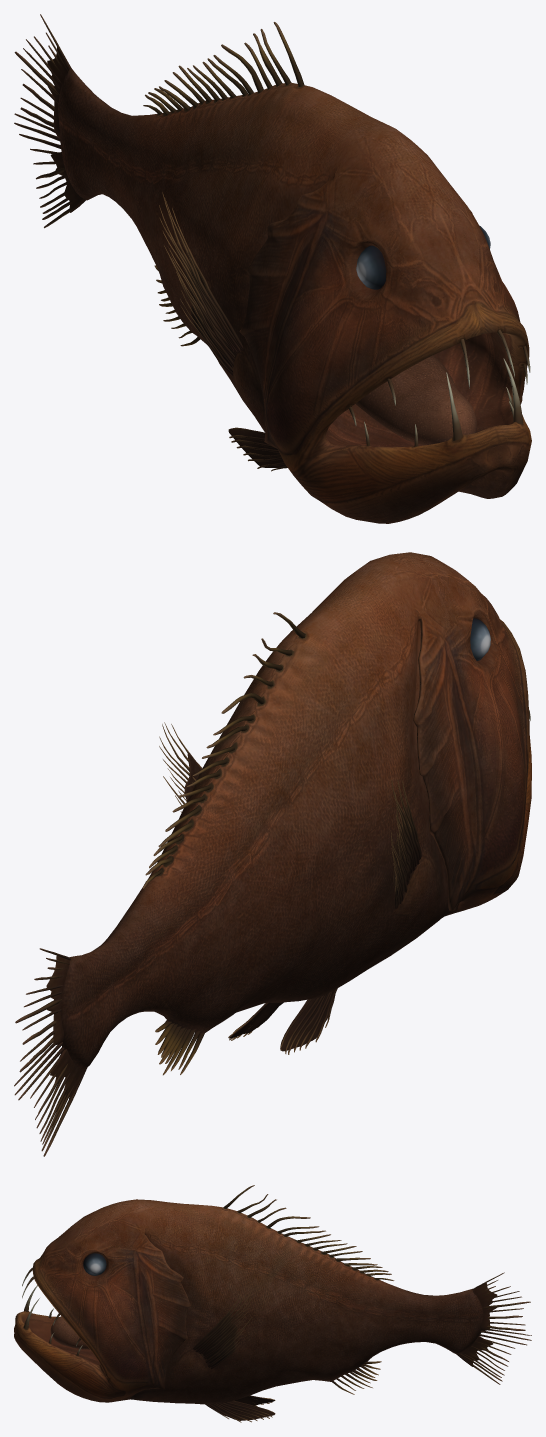
Rendered from peixe.glb.
3 renders of one model, top to bottom at view 1: azimuth 30°, elevation 25°; view 2: azimuth 150°, elevation 25°; view 3: azimuth 270°, elevation 25°, orthographic. The views are drawn at different scales.
Visible parts, largest first — view 1: node_id49; view 2: node_id49; view 3: node_id49.
Boxes of the visible parts, box(x1,y1,x2,y2) form: node_id49: box(14, 14, 531, 523); node_id49: box(14, 552, 531, 1156); node_id49: box(14, 1185, 531, 1422).
Size of the model in its own units: 0.2952 by 0.512 by 1.05.
1 material, 1 textured.
